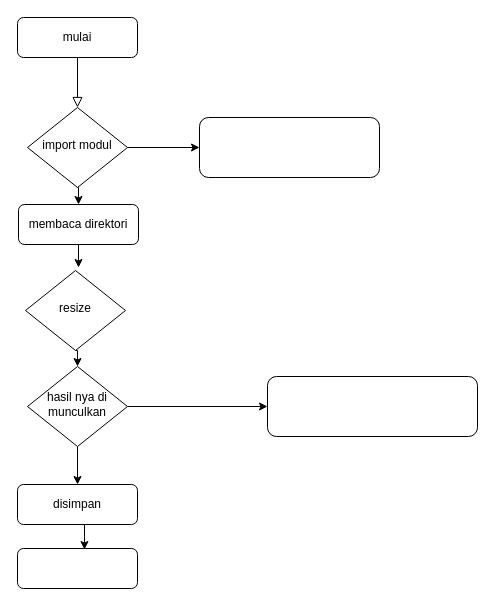
Image size: 495x606. Some labels were removed from this diagram. The shapes that lost their labels are listed below. From the top down, each one's centre as x and y in pixels, then its label:
At point (289, 147): "-open cv -scikt learn -scipy -os".
At point (372, 406): "-show image -sc2.imshow -cv2.imwrite cv.loodimage".
At point (77, 568): "seleesai".
